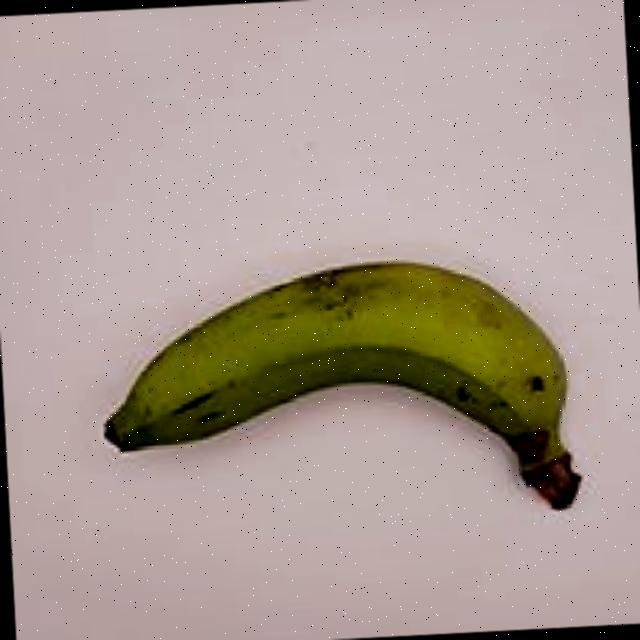Raw: (70, 208, 608, 564)
